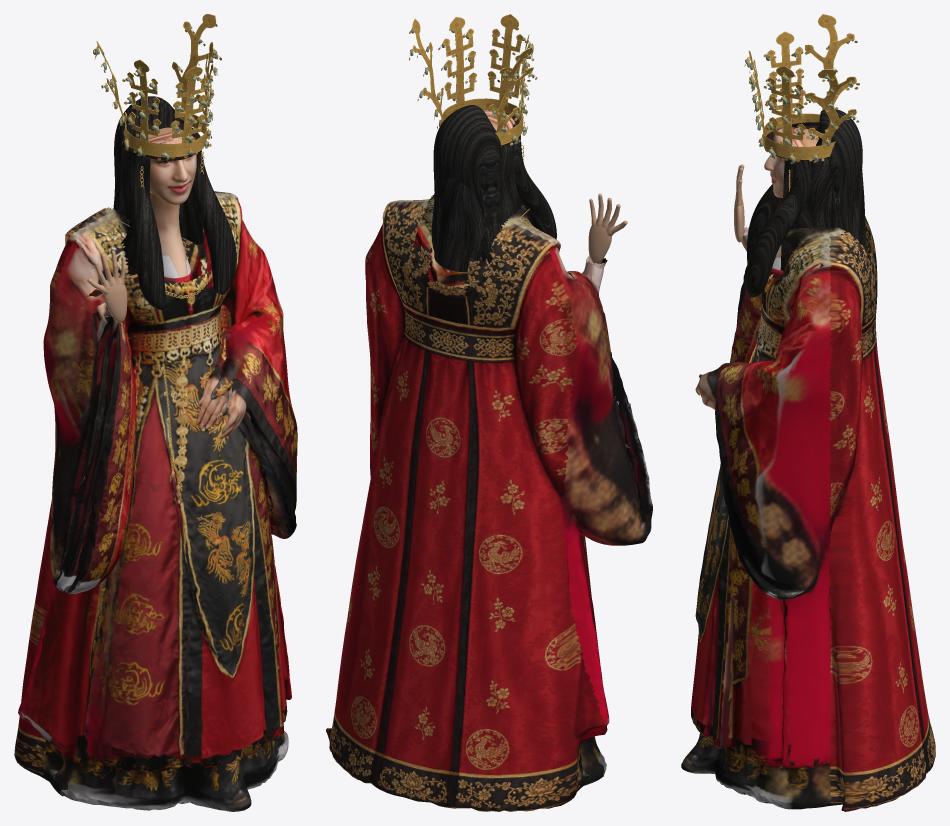
File: queen_seondeok_refined_v6.glb
3 views of the same model, side by side, from view 1: azimuth 30°, elevation 25°; view 2: azimuth 150°, elevation 25°; view 3: azimuth 270°, elevation 25° (orthographic). The views are drawn at different scales.
Parts seen in each view (by area): view 1: Seondeok_Royal_red_and_black_robe, Seondeok_Original_costume_embroidery, Seondeok_Face_neck_hands, V6_rear_fabric_140, V6_front_hair_lock_-1, V6_front_hair_lock_1, V6_continuous_temple_hair, V6_closed_anatomical_head, V6_closed_neck, V6_closed_rear_hair, V6_five_finger_waving_hand, Original_body_4 (+4 smaller); view 2: V6_rear_fabric_140, Seondeok_Royal_red_and_black_robe, V6_closed_rear_hair, V6_continuous_temple_hair, Seondeok_Original_costume_embroidery, V6_rear_fabric_142, V6_rear_fabric_139, V6_front_hair_lock_-1, Original_body_5, Original_body_4, V6_five_finger_waving_hand, Original_body_3 (+3 smaller); view 3: Seondeok_Royal_red_and_black_robe, V6_rear_fabric_140, Seondeok_Original_costume_embroidery, V6_continuous_temple_hair, V6_closed_rear_hair, V6_front_hair_lock_1, Original_body_5, Original_body_3, Original_body_2, Original_body_1, Original_body_6, V6_front_hair_lock_-1 (+5 smaller).
Part boxes in pixels (box(x1,y1,x2,y2)): Seondeok_Royal_red_and_black_robe: box(18, 192, 297, 811); Seondeok_Original_costume_embroidery: box(21, 196, 297, 803); Seondeok_Face_neck_hands: box(68, 216, 257, 440); V6_rear_fabric_140: box(14, 191, 231, 778); V6_front_hair_lock_-1: box(128, 149, 167, 309); V6_front_hair_lock_1: box(191, 134, 236, 294); V6_continuous_temple_hair: box(119, 119, 203, 268); V6_closed_anatomical_head: box(148, 127, 196, 204); V6_closed_neck: box(150, 191, 193, 286); V6_closed_rear_hair: box(113, 96, 183, 228); V6_five_finger_waving_hand: box(87, 250, 127, 322); Original_body_4: box(170, 66, 207, 142); V6_rear_fabric_140: box(326, 201, 604, 811); Seondeok_Royal_red_and_black_robe: box(370, 198, 652, 789); V6_closed_rear_hair: box(431, 105, 503, 263); V6_continuous_temple_hair: box(434, 123, 522, 272); Seondeok_Original_costume_embroidery: box(418, 199, 643, 780); V6_rear_fabric_142: box(384, 206, 579, 780); V6_rear_fabric_139: box(436, 227, 553, 388); V6_front_hair_lock_-1: box(513, 135, 556, 239); Original_body_5: box(443, 16, 476, 107); Original_body_4: box(487, 14, 523, 106); V6_five_finger_waving_hand: box(588, 193, 627, 263); Original_body_3: box(440, 98, 523, 145); Seondeok_Royal_red_and_black_robe: box(681, 226, 845, 809); V6_rear_fabric_140: box(828, 217, 935, 811); Seondeok_Original_costume_embroidery: box(686, 232, 831, 797); V6_continuous_temple_hair: box(780, 122, 866, 270); V6_closed_rear_hair: box(816, 109, 862, 236); V6_front_hair_lock_1: box(747, 159, 811, 297); Original_body_5: box(767, 66, 805, 145); Original_body_3: box(762, 113, 835, 159); Original_body_2: box(767, 31, 805, 113); Original_body_1: box(805, 14, 856, 110); Original_body_6: box(805, 69, 856, 145); V6_front_hair_lock_-1: box(747, 184, 782, 265).
Bounding box in the file's own units: 0.7721 × 1.98 × 0.6344.
16 materials, 12 textured.
